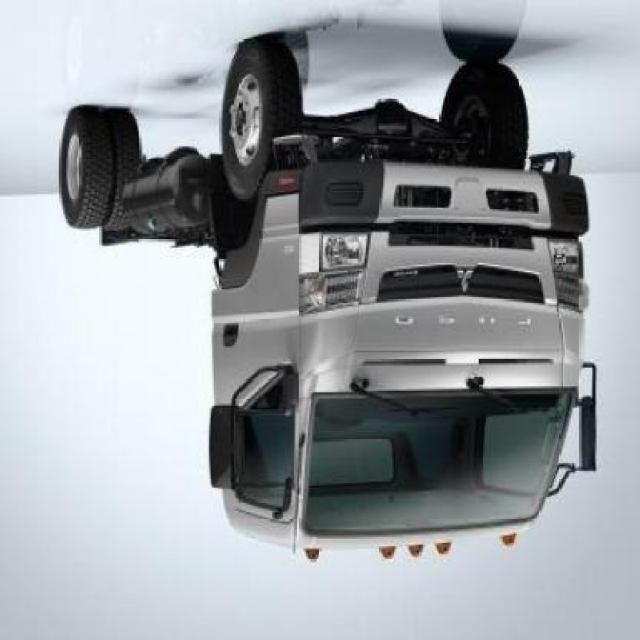truck: (62, 41, 599, 567)
